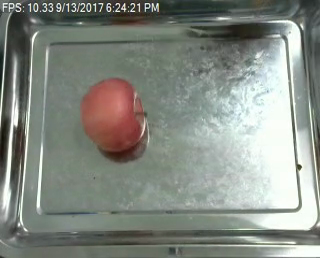Apple: (76, 73, 146, 159)
